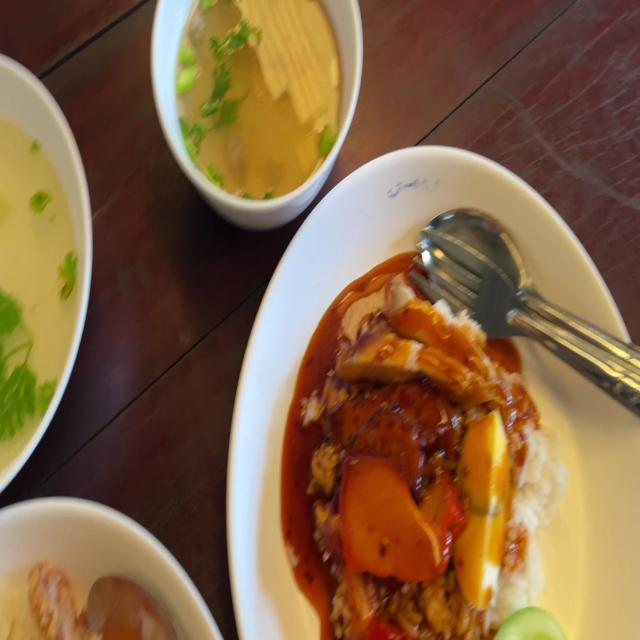red_pork_and_crispy_pork: (457, 408, 508, 602)
stir_fried_basil: (331, 377, 455, 476)
